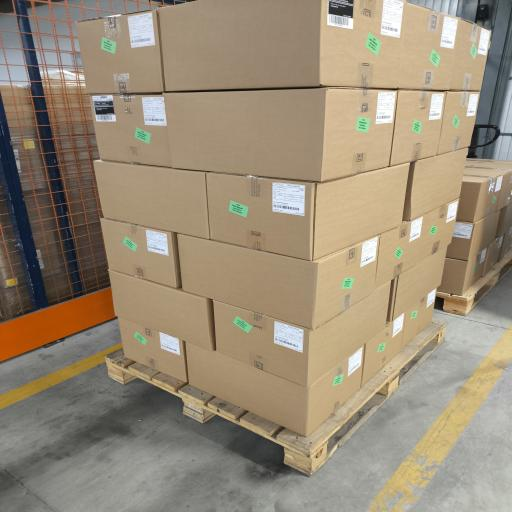pallet: (106, 320, 447, 475), (437, 250, 511, 315)
